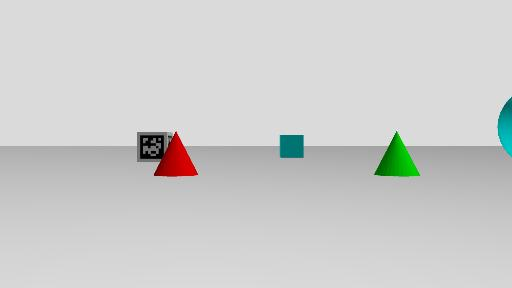green_cone: (373, 130, 421, 177)
red_cone: (153, 131, 199, 177)
